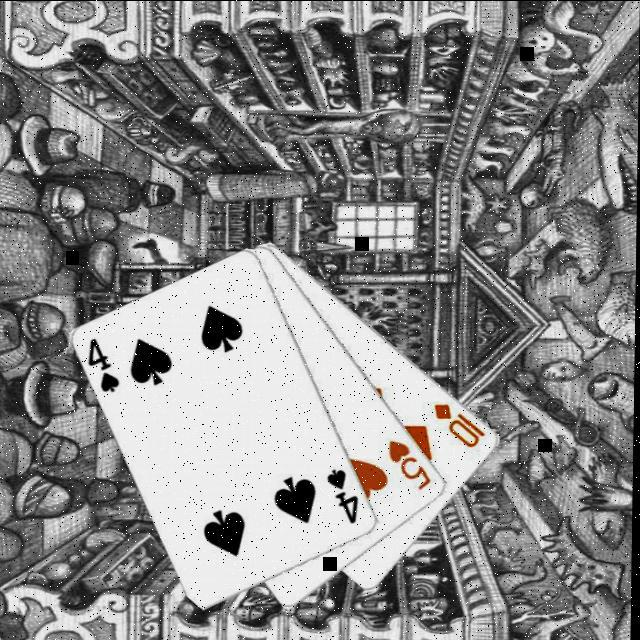10D: (433, 399, 492, 449)
4S: (88, 334, 127, 394), (327, 465, 365, 525)
5H: (388, 435, 439, 491)
